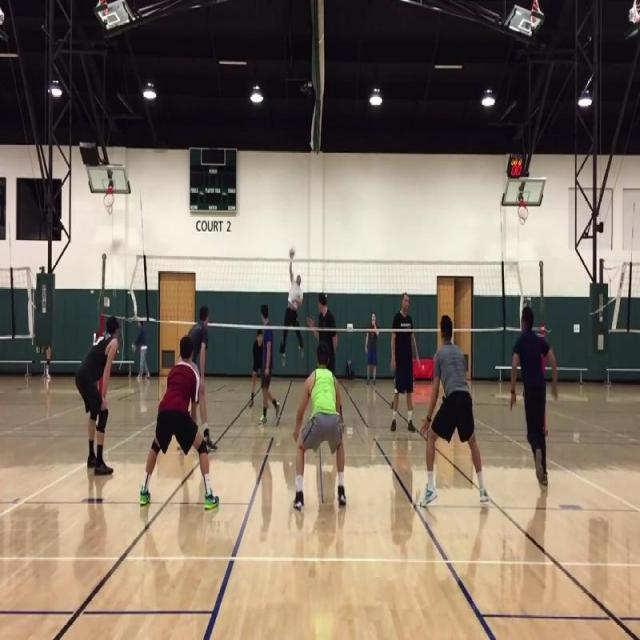volleyball: (289, 248, 294, 258)
